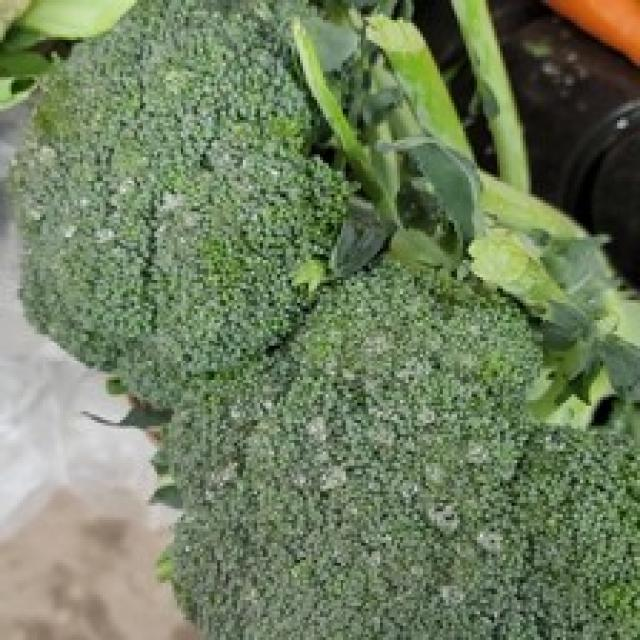Broccoli: (14, 2, 640, 639), (15, 2, 640, 639)
